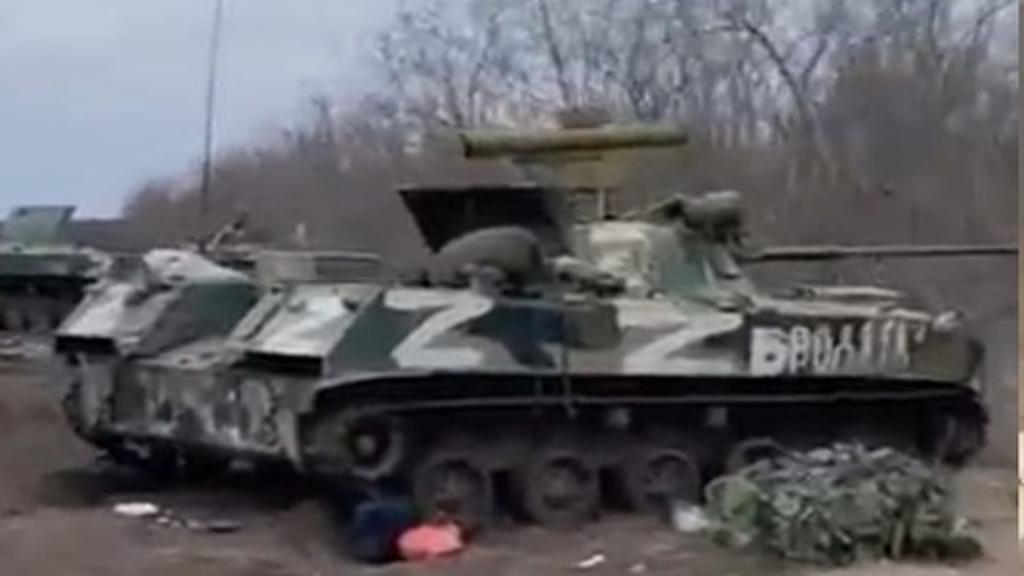APC-IFV: (54, 98, 1014, 522)
